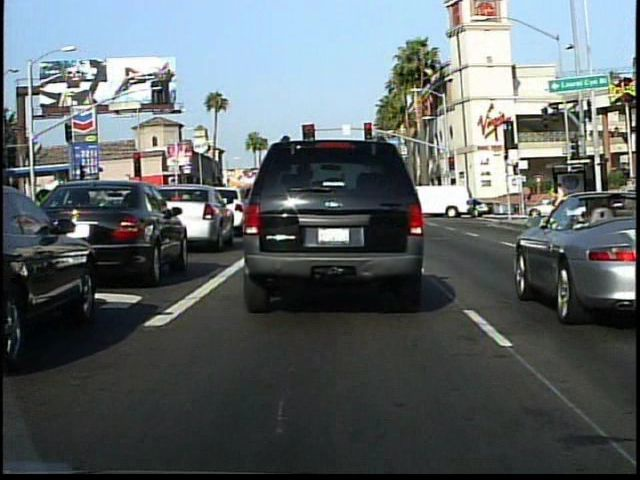person: (550, 180, 571, 231)
